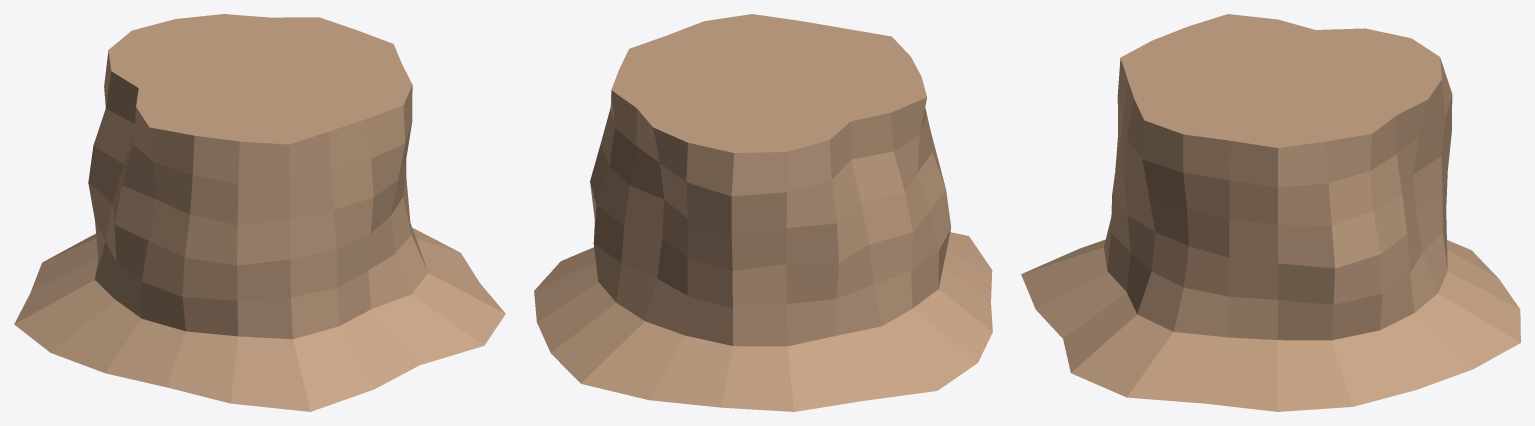
The model's file is mesa_a.glb.
3 renders of one model, left to right at view 1: azimuth 30°, elevation 25°; view 2: azimuth 150°, elevation 25°; view 3: azimuth 270°, elevation 25°, orthographic. The views are drawn at different scales.
Visible parts, largest first — view 1: Mesa; view 2: Mesa; view 3: Mesa.
Part boxes in pixels (box(x1,y1,x2,y2)): Mesa: box(14, 14, 505, 411); Mesa: box(534, 14, 992, 411); Mesa: box(1021, 14, 1520, 411).
Bounding box in the file's own units: 64.03 × 33.58 × 66.04.
